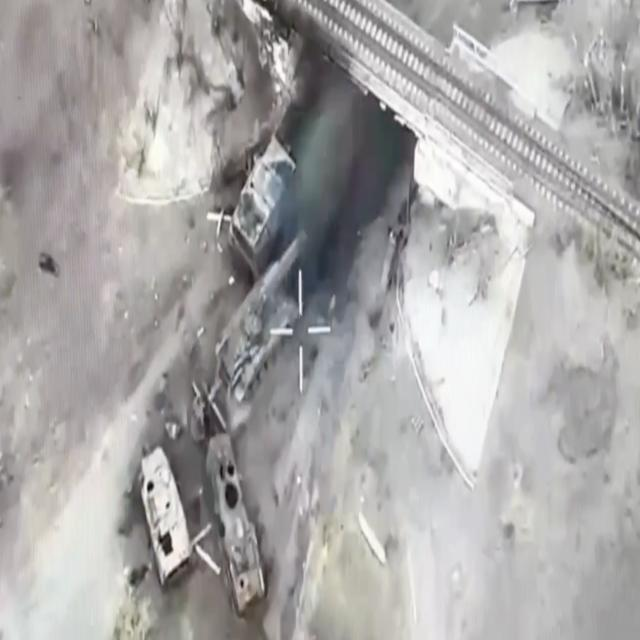vehicle: (214, 228, 309, 404), (228, 129, 297, 284), (207, 432, 265, 616), (139, 446, 191, 588)
